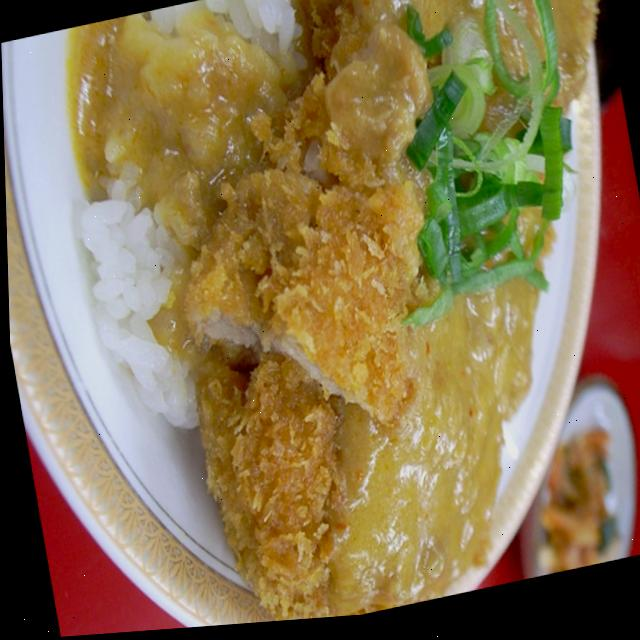鸡肉料理 含炸鸡: (23, 0, 640, 639)
